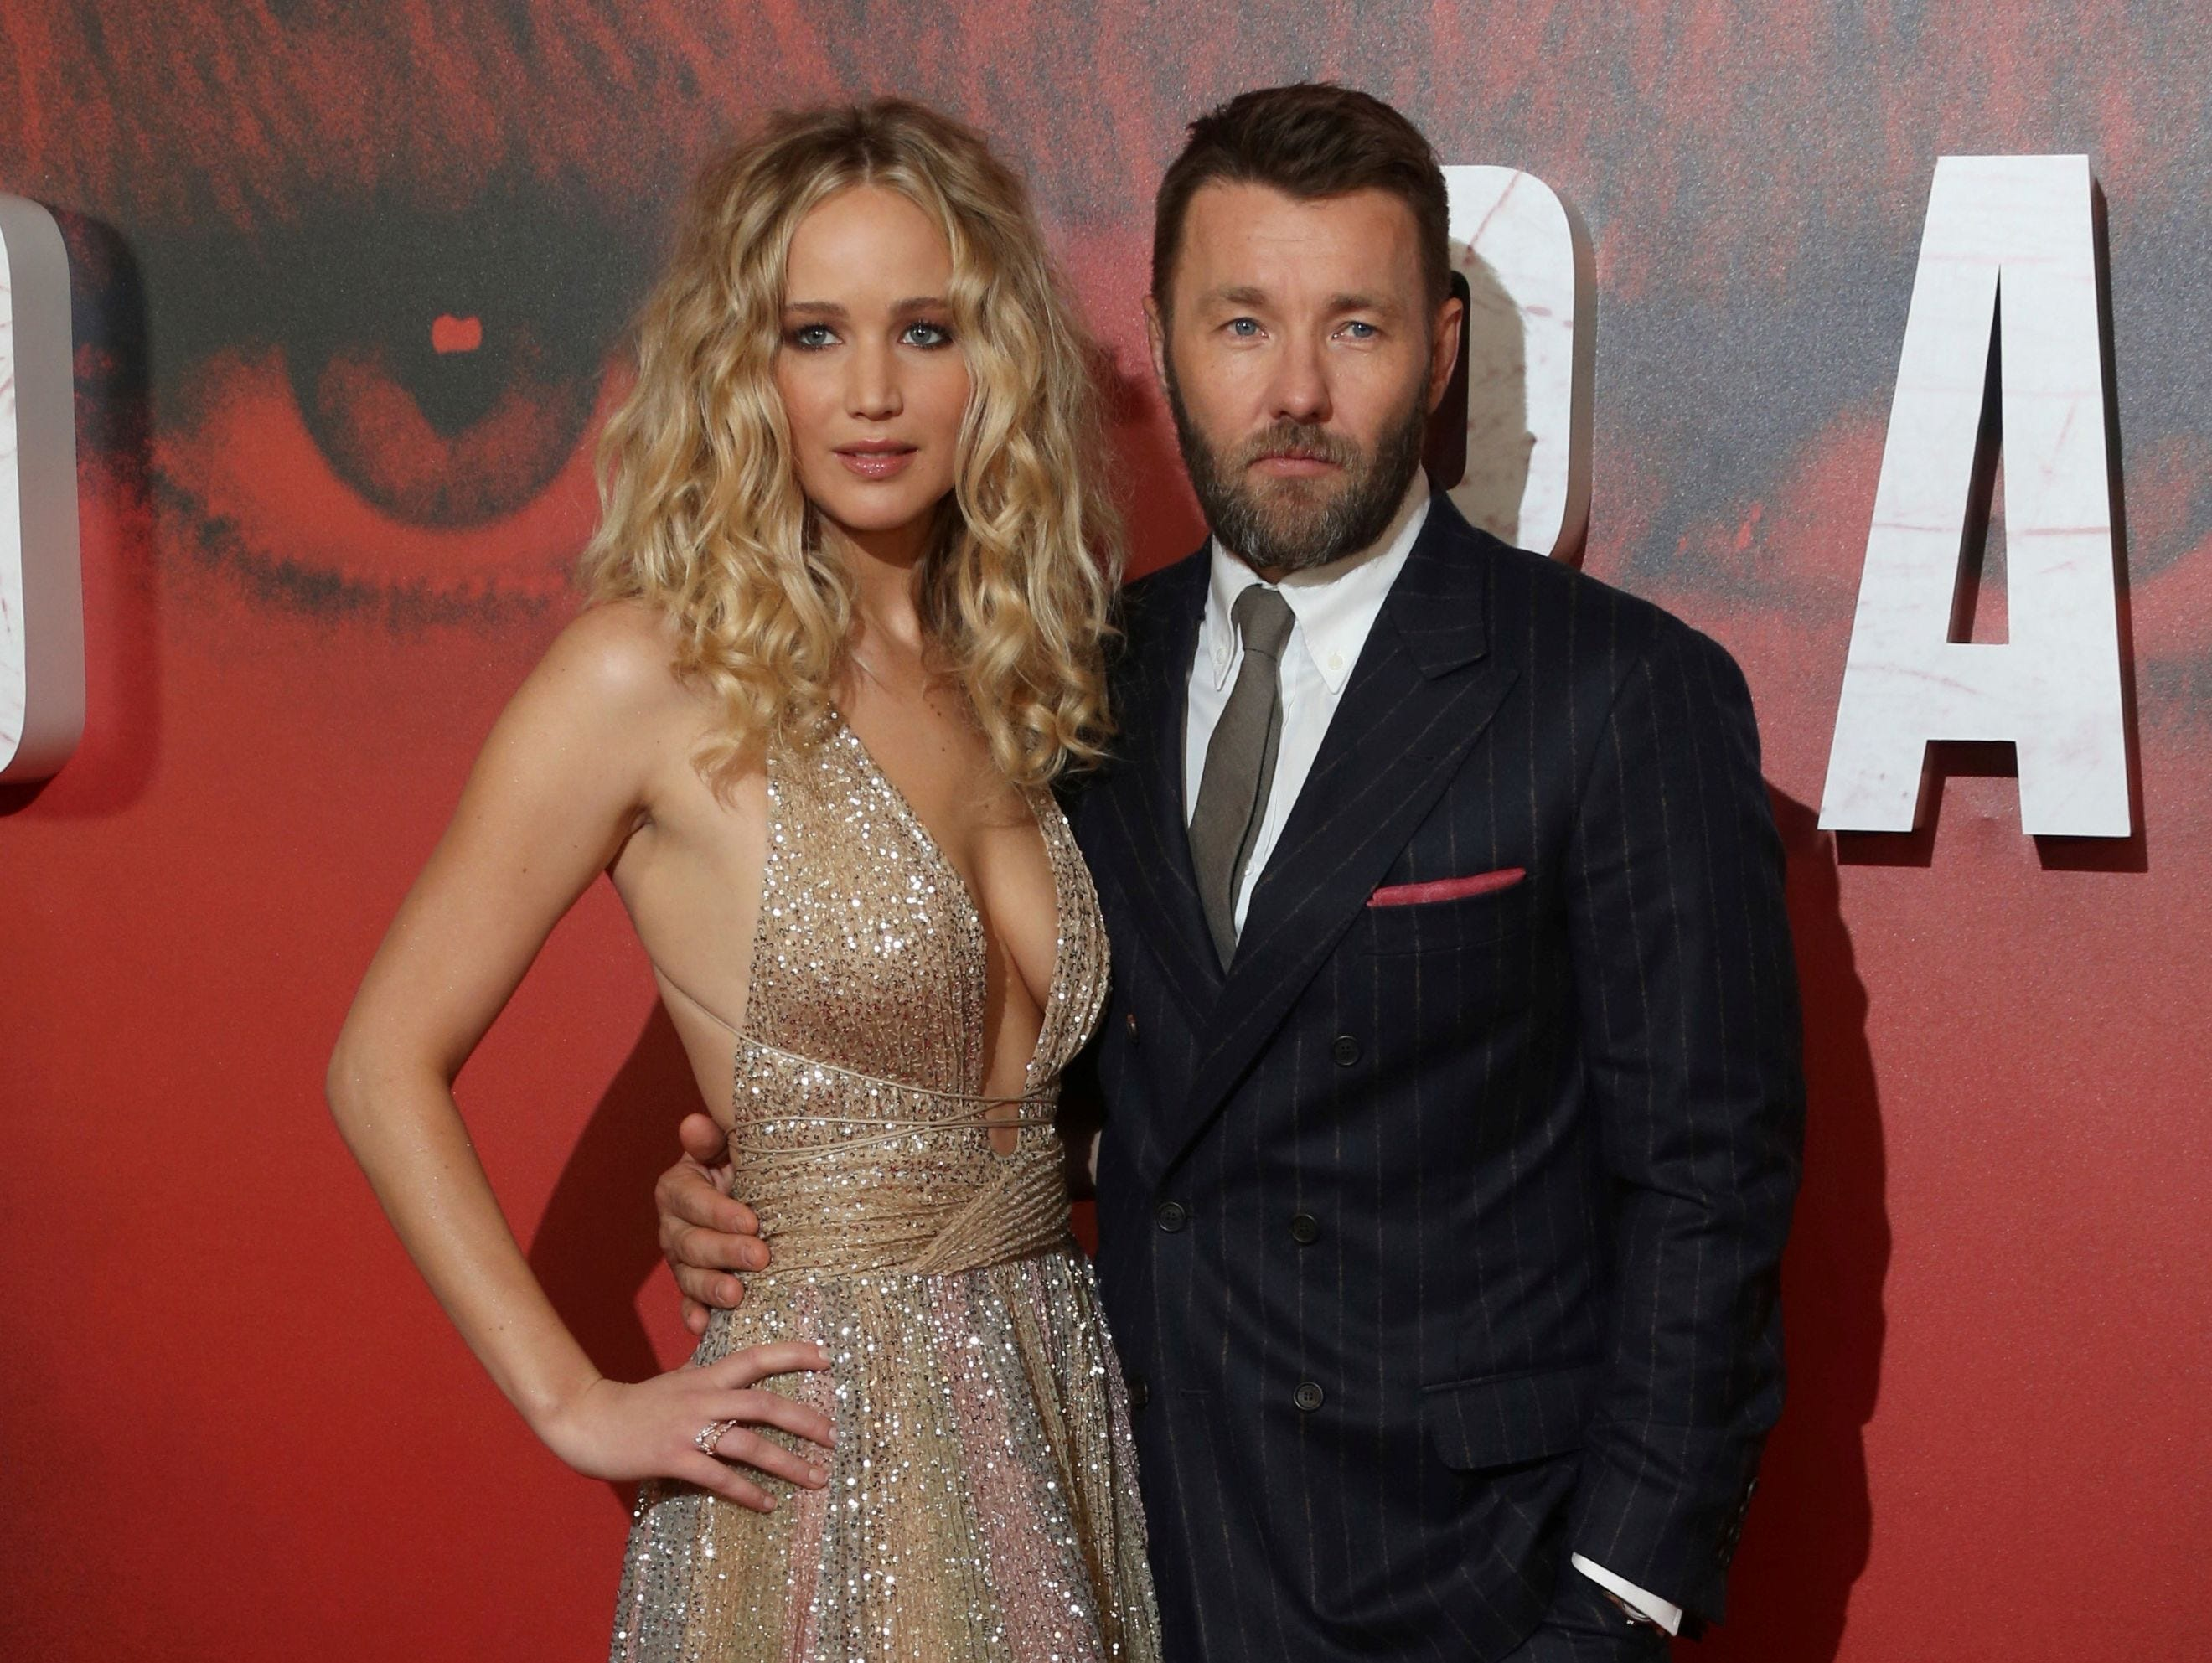bad: (739, 262, 1008, 531), (1158, 262, 1427, 531)
